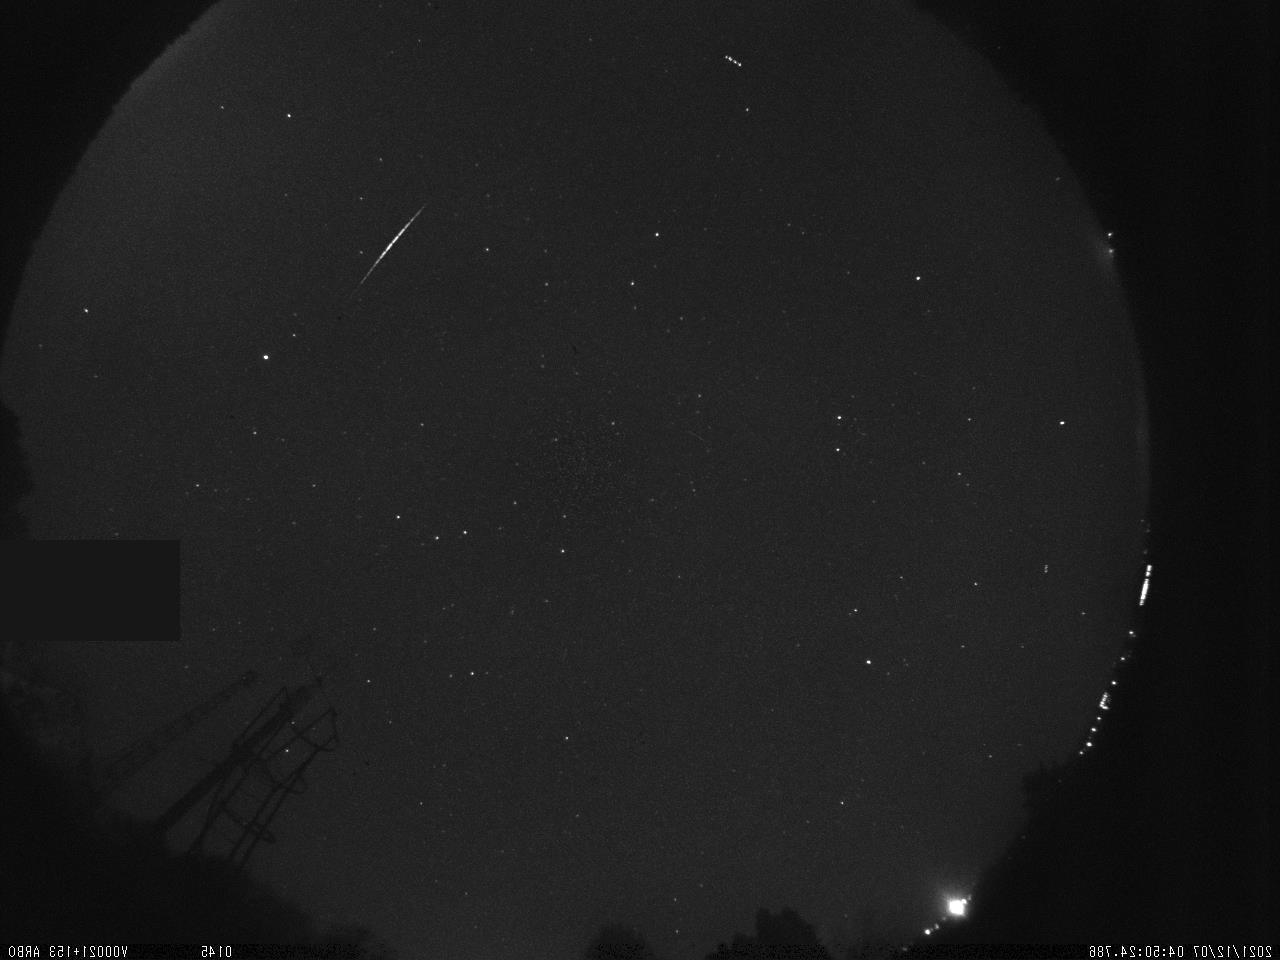meteor: (339, 196, 435, 298)
satelite: (717, 48, 752, 74)
